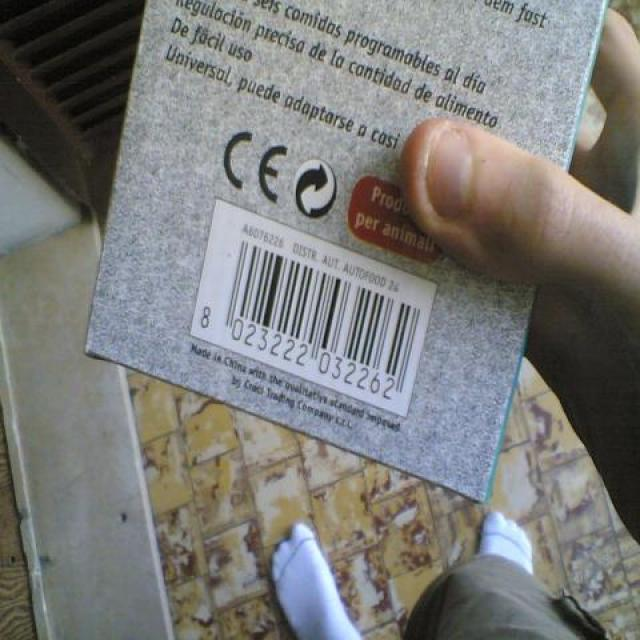Barcode: (185, 196, 440, 420)
